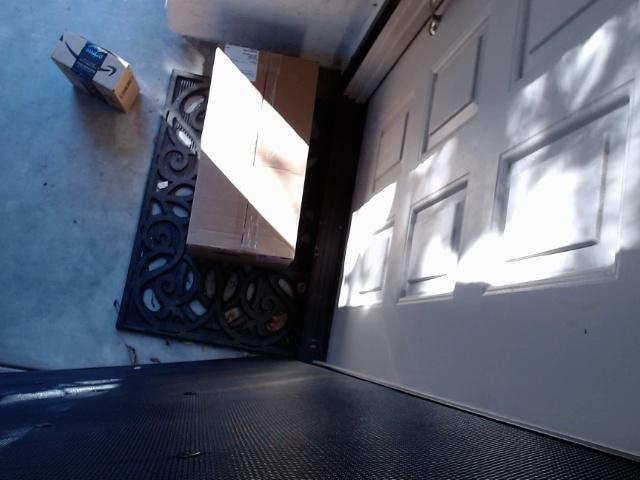box: (184, 42, 319, 273), (50, 28, 139, 113)
